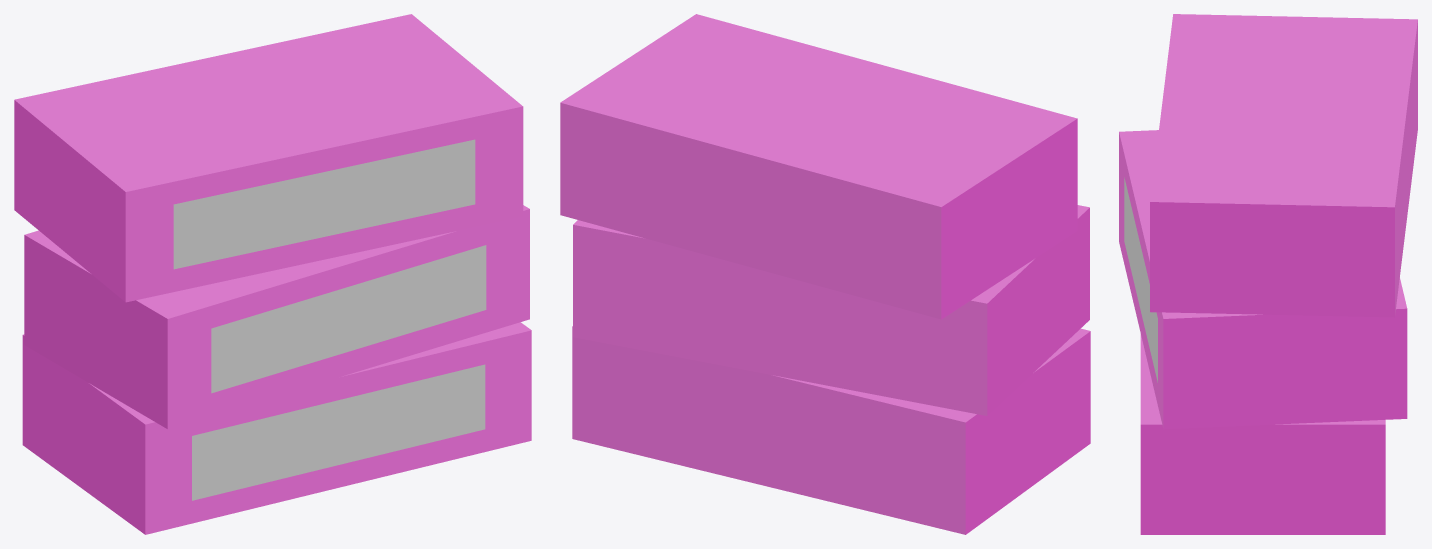
File: ShelfItem4.glb
3 renders of one model, left to right at view 1: azimuth 30°, elevation 25°; view 2: azimuth 150°, elevation 25°; view 3: azimuth 270°, elevation 25°, orthographic. The views are drawn at different scales.
Visible parts, largest first — view 1: SI_Prop_ShelfItem_04; view 2: SI_Prop_ShelfItem_04; view 3: SI_Prop_ShelfItem_04.
Boxes of the visible parts, x1,y1,x2,y2 form: SI_Prop_ShelfItem_04: (14, 14, 531, 534); SI_Prop_ShelfItem_04: (560, 14, 1090, 534); SI_Prop_ShelfItem_04: (1119, 14, 1417, 534).
Bounding box in the file's own units: 0.00903 × 0.00706 × 0.00577.
1 material, 1 textured.
